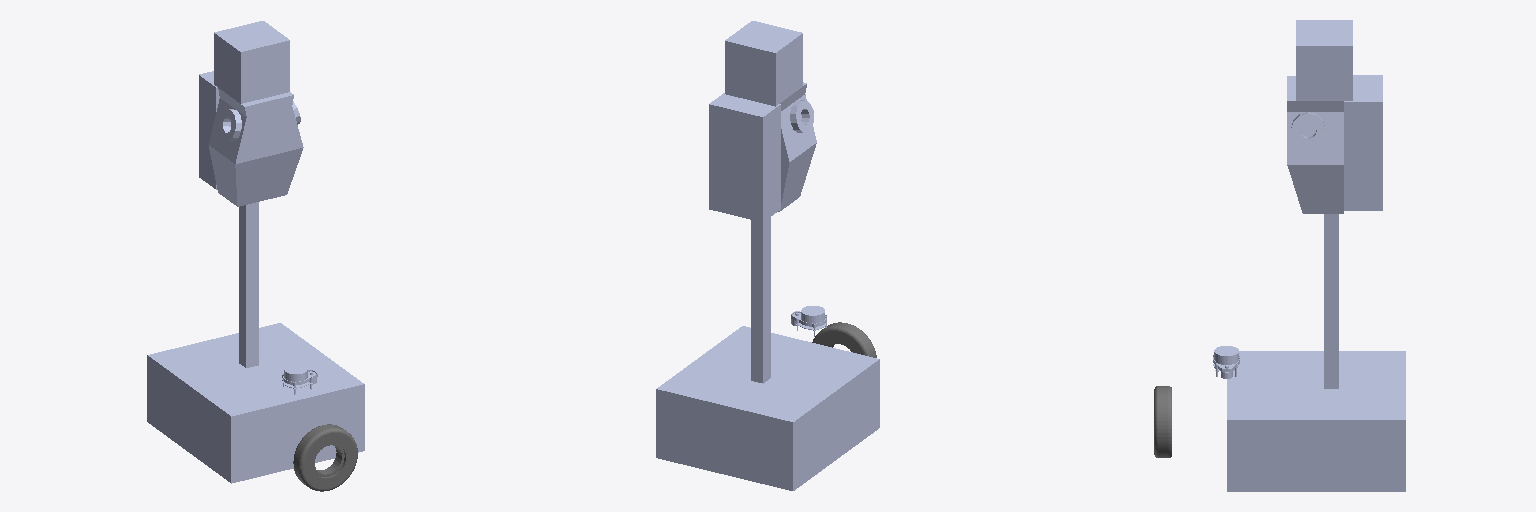
URDF robot description (mojiwon):
<?xml version="1.0" encoding="utf-8"?>
<!-- This URDF was automatically created by SolidWorks to URDF Exporter! Originally created by [author] ([email redacted]) 
     Commit Version: 1.6.0-4-g7f85cfe  Build Version: 1.6.7995.38578
     For more information, please see http://wiki.ros.org/sw_urdf_exporter -->
<robot
  name="mojiwon">
  <link
    name="base_link">
    <inertial>
      <origin
        xyz="-0.0482719461989101 0.000171308944523422 0.106246752193616"
        rpy="0 0 0" />
      <mass
        value="2.2553715976141" />
      <inertia
        ixx="0.00635085920555909"
        ixy="-6.39708504207861E-08"
        ixz="-1.23319294639748E-05"
        iyy="0.00747889776233451"
        iyz="-2.91661796929136E-07"
        izz="0.0126463141552135" />
    </inertial>
    <visual>
      <origin
        xyz="0 0 0"
        rpy="0 0 0" />
      <geometry>
        <mesh
          filename="package://mojiwon/meshes/base_link.STL" />
      </geometry>
      <material
        name="">
        <color
          rgba="0.792156862745098 0.819607843137255 0.933333333333333 1" />
      </material>
    </visual>
    <collision>
      <origin
        xyz="0 0 0"
        rpy="0 0 0" />
      <geometry>
        <mesh
          filename="package://mojiwon/meshes/base_link.STL" />
      </geometry>
    </collision>
  </link>
  <link
    name="left_link">
    <inertial>
      <origin
        xyz="-6.245E-16 -1.9429E-16 0.0235"
        rpy="0 0 0" />
      <mass
        value="1.2746" />
      <inertia
        ixx="0.0037408"
        ixy="-1.0842E-19"
        ixz="3.475E-18"
        iyy="0.0037408"
        iyz="-2.3431E-18"
        izz="0.0070516" />
    </inertial>
    <visual>
      <origin
        xyz="0 0 0"
        rpy="0 0 0" />
      <geometry>
        <mesh
          filename="package://mojiwon/meshes/left_link.STL" />
      </geometry>
      <material
        name="">
        <color
          rgba="0.50196 0.49804 0.49804 1" />
      </material>
    </visual>
    <collision>
      <origin
        xyz="0 0 0"
        rpy="0 0 0" />
      <geometry>
        <mesh
          filename="package://mojiwon/meshes/left_link.STL" />
      </geometry>
    </collision>
  </link>
  <joint
    name="left_joint"
    type="continuous">
    <origin
      xyz="-0.0010088 0.14325 0.097944"
      rpy="-1.5708 -0.85294 0" />
    <parent
      link="base_link" />
    <child
      link="left_link" />
    <axis
      xyz="0 0 1" />
    <limit
      effort="1"
      velocity="1" />
  </joint>
  <link
    name="right_link">
    <inertial>
      <origin
        xyz="-2.43403387722996E-15 -1.33226762955019E-15 -0.0234999999865184"
        rpy="0 0 0" />
      <mass
        value="1.27462152376014" />
      <inertia
        ixx="0.00374082490658473"
        ixy="-4.2351647362715E-22"
        ixz="3.1320924800035E-18"
        iyy="0.00374082490658472"
        iyz="3.5349213566865E-18"
        izz="0.00705158889265268" />
    </inertial>
    <visual>
      <origin
        xyz="0 0 0"
        rpy="0 0 0" />
      <geometry>
        <mesh
          filename="package://mojiwon/meshes/right_link.STL" />
      </geometry>
      <material
        name="">
        <color
          rgba="0.501960784313725 0.498039215686275 0.498039215686275 1" />
      </material>
    </visual>
    <collision>
      <origin
        xyz="0 0 0"
        rpy="0 0 0" />
      <geometry>
        <mesh
          filename="package://mojiwon/meshes/right_link.STL" />
      </geometry>
    </collision>
  </link>
  <joint
    name="right_joint"
    type="continuous">
    <origin
      xyz="-0.0010088 -0.14275 0.097944"
      rpy="1.5708 -0.00064676 3.1416" />
    <parent
      link="base_link" />
    <child
      link="right_link" />
    <axis
      xyz="0 0 1" />
    <limit
      effort="1"
      velocity="1" />
  </joint>
  <link
    name="lidar_link">
    <inertial>
      <origin
        xyz="0.00829409957033963 -3.05114006976526E-13 0.0107011422227911"
        rpy="0 0 0" />
      <mass
        value="0.146695752131392" />
      <inertia
        ixx="6.22721120792819E-05"
        ixy="1.74376403416964E-15"
        ixz="1.88658076337422E-05"
        iyy="0.000109673997590948"
        iyz="-6.9401490414588E-16"
        izz="0.000125682524275729" />
    </inertial>
    <visual>
      <origin
        xyz="0 0 0"
        rpy="0 0 0" />
      <geometry>
        <mesh
          filename="package://mojiwon/meshes/lidar_link.STL" />
      </geometry>
      <material
        name="">
        <color
          rgba="0.792156862745098 0.819607843137255 0.933333333333333 1" />
      </material>
    </visual>
    <collision>
      <origin
        xyz="0 0 0"
        rpy="0 0 0" />
      <geometry>
        <mesh
          filename="package://mojiwon/meshes/lidar_link.STL" />
      </geometry>
    </collision>
  </link>
  <joint
    name="lidar_joint"
    type="fixed">
    <origin
      xyz="-0.0010088 0.00025196 0.27194"
      rpy="0 0 0" />
    <parent
      link="base_link" />
    <child
      link="lidar_link" />
    <axis
      xyz="0 0 0" />
  </joint>
</robot>

--- Render facts (derived) ---
Views: 3 orthographic renders of the robot side by side, from view 1: azimuth 30°, elevation 25°; view 2: azimuth 150°, elevation 25°; view 3: azimuth 270°, elevation 25°.
Model mojiwon with 4 links and 3 joints (2 continuous, 1 fixed), rooted at base_link, posed all joints at 0.
Visible links, largest first — view 1: base_link, right_link, lidar_link; view 2: base_link, right_link, lidar_link; view 3: base_link, right_link, lidar_link.
Boxes of the visible links, box(x1,y1,x2,y2) form: base_link: box(147, 21, 364, 483); right_link: box(293, 424, 357, 491); lidar_link: box(282, 365, 317, 394); base_link: box(656, 21, 879, 490); right_link: box(812, 322, 876, 357); lidar_link: box(791, 306, 826, 336); base_link: box(1227, 20, 1405, 491); right_link: box(1154, 386, 1171, 457); lidar_link: box(1213, 346, 1239, 378).
Bounding box of the posed robot: 0.43 × 0.6598 × 1.23 m (x, y, z).
4 mesh visuals loaded from 4 distinct referenced files (4 binary STL).
